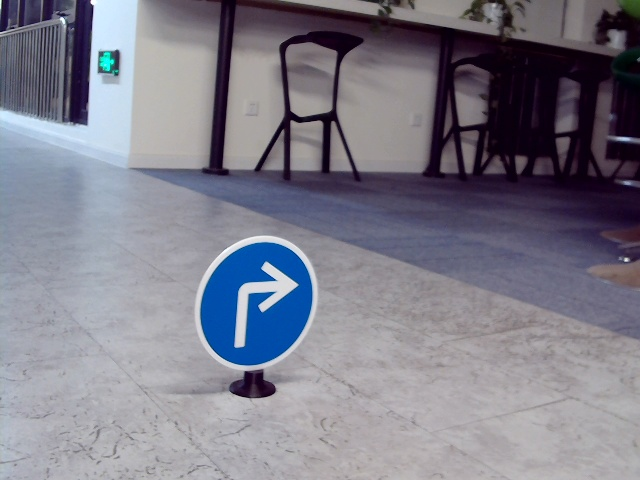turn_right: (230, 259, 297, 352)
